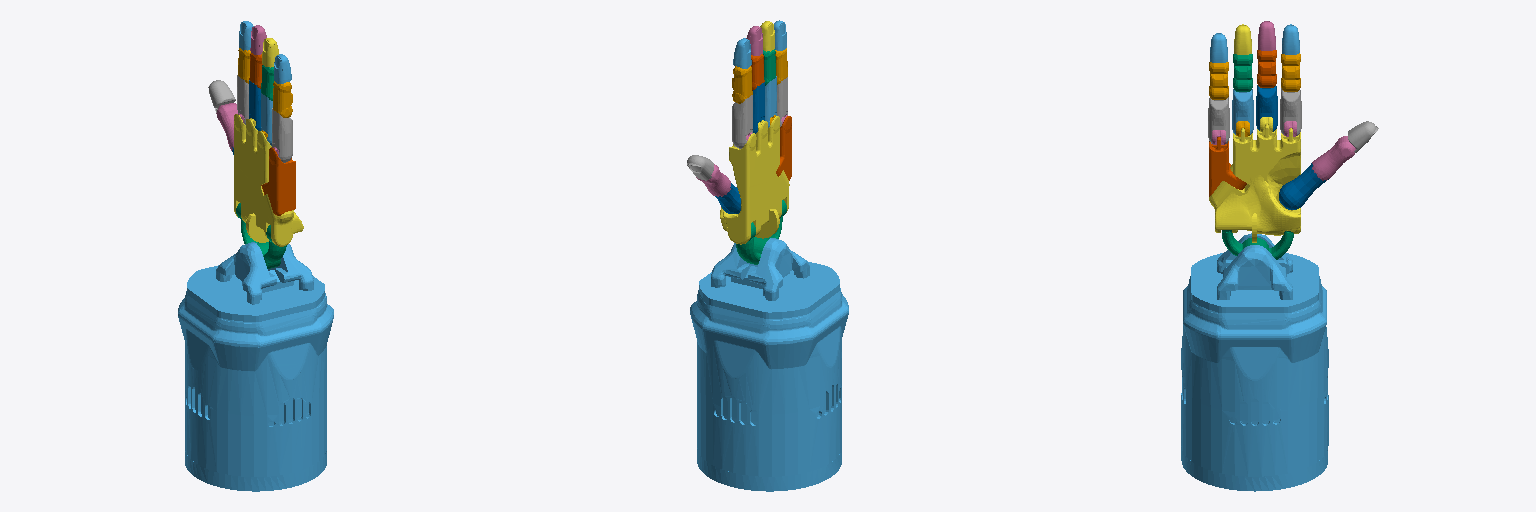
--- Facts derived from the render (not from the file) ---
Views: 3 orthographic renders of the robot side by side, from view 1: azimuth 30°, elevation 25°; view 2: azimuth 150°, elevation 25°; view 3: azimuth 270°, elevation 25°.
Model shadow_right with 33 links and 32 joints (24 revolute, 8 fixed), rooted at world, posed all joints at 0.
Visible links, largest first — view 1: forearm, palm, lfmetacarpal, lfproximal, wrist, lfmiddle, thmiddle; view 2: forearm, palm, ffproximal, wrist, lfmetacarpal, ffmiddle; view 3: forearm, palm, lfmetacarpal, thproximal, thmiddle, wrist, mfproximal, lfproximal, ffproximal, rfproximal, ffmiddle, rfmiddle (+3 smaller).
Link boxes in pixels (box(x1,y1,x2,y2)): forearm: box(178, 242, 333, 491); palm: box(234, 114, 303, 246); lfmetacarpal: box(261, 147, 295, 215); lfproximal: box(272, 108, 292, 162); wrist: box(236, 203, 286, 268); lfmiddle: box(273, 81, 292, 117); thmiddle: box(216, 103, 237, 150); forearm: box(690, 238, 848, 491); palm: box(720, 116, 789, 244); ffproximal: box(732, 95, 752, 148); wrist: box(736, 200, 786, 264); lfmetacarpal: box(776, 116, 791, 180); ffmiddle: box(732, 66, 752, 103); forearm: box(1181, 233, 1328, 491); palm: box(1209, 124, 1300, 242); lfmetacarpal: box(1209, 137, 1246, 196); thproximal: box(1279, 163, 1328, 209); thmiddle: box(1312, 136, 1355, 180); wrist: box(1222, 230, 1293, 259); mfproximal: box(1256, 85, 1277, 131); lfproximal: box(1208, 97, 1229, 143); ffproximal: box(1280, 88, 1301, 135); rfproximal: box(1232, 89, 1253, 134); ffmiddle: box(1281, 53, 1300, 91); rfmiddle: box(1233, 54, 1252, 91).
Bounding box of the posed robot: 0.1351 × 0.1809 × 0.4479 m (x, y, z).
23 mesh visuals loaded from 11 distinct referenced files (11 binary STL).

The robot description file, URDF, robot "shadow_right":
<?xml version="1.0" encoding="utf-8"?>
<!--
 Software License Agreement (BSD License)
 Copyright © 2022 belongs to Shadow Robot Company Ltd.
 All rights reserved.
 Redistribution and use in source and binary forms, with or without modification,
 are permitted provided that the following conditions are met:
   1. Redistributions of source code must retain the above copyright notice,
      this list of conditions and the following disclaimer.
   2. Redistributions in binary form must reproduce the above copyright notice,
      this list of conditions and the following disclaimer in the documentation
      and/or other materials provided with the distribution.
   3. Neither the name of Shadow Robot Company Ltd nor the names of its contributors
      may be used to endorse or promote products derived from this software without
      specific prior written permission.
 This software is provided by Shadow Robot Company Ltd "as is" and any express
 or implied warranties, including, but not limited to, the implied warranties of
 merchantability and fitness for a particular purpose are disclaimed. In no event
 shall the copyright holder be liable for any direct, indirect, incidental, special,
 exemplary, or consequential damages (including, but not limited to, procurement of
 substitute goods or services; loss of use, data, or profits; or business interruption)
 however caused and on any theory of liability, whether in contract, strict liability,
 or tort (including negligence or otherwise) arising in any way out of the use of this
 software, even if advised of the possibility of such damage.
-->
<robot name="shadow_right">
  <link name="world"/>
  <joint name="world_joint" type="fixed">
    <parent link="world"/>
    <child link="forearm"/>
    <origin rpy="0.0 0.0 1.57079" xyz="0.0 0.0 0.0"/>
  </joint>
  <link name="forearm">
    <inertial>
      <origin rpy="0 0 0" xyz="0 0 0.09"/>
      <mass value="3.0"/>
      <inertia ixx="0.0138" ixy="0.0" ixz="0.0" iyy="0.0138" iyz="0.0" izz="0.00744"/>
    </inertial>
    <visual>
      <origin rpy="0 0 0" xyz="0 0 0.0"/>
      <geometry name="forearm_visual">
        <mesh filename="meshes/visual/forearm_E3M5.stl" scale="0.001 0.001 0.001"/>
      </geometry>
    </visual>
    <collision>
      <origin rpy="0 0 0" xyz="0 0 0.0"/>
      <geometry name="forearm_collision">
        <mesh filename="meshes/collision/forearm_E3M5.stl" scale="0.001 0.001 0.001"/>
      </geometry>
    </collision>
    <!-- wrist mount -->
    <collision>
      <origin rpy="0 0.785395 0" xyz="0 -0.01 0.165"/>
      <geometry>
        <box size="0.07 0.07 0.07"/>
      </geometry>
    </collision>
  </link>
  <link name="wrist">
    <inertial>
      <origin rpy="0 0 0" xyz="0 0 0.029"/>
      <mass value="0.1"/>
      <inertia ixx="0.000035" ixy="0.0" ixz="0.0" iyy="0.000064" iyz="0.0" izz="0.0000438"/>
    </inertial>
    <visual>
      <origin rpy="0 0 0" xyz="0 0 0"/>
      <geometry name="wrist_visual">
        <mesh filename="meshes/visual/wrist_E3M5.stl" scale="0.001 0.001 0.001"/>
      </geometry>
    </visual>
    <collision>
      <origin rpy="1.5708 1.5708 0" xyz="0 0 0"/>
      <geometry name="wrist_collision_geom">
        <cylinder length="0.030" radius="0.0135"/>
      </geometry>
    </collision>
    <collision>
      <origin rpy="0 1.5708 0" xyz="-0.026 0 0.034"/>
      <geometry>
        <cylinder length="0.010" radius="0.011"/>
      </geometry>
    </collision>
    <collision>
      <origin rpy="0 1.5708 0" xyz="0.031 0 0.034"/>
      <geometry>
        <cylinder length="0.010" radius="0.011"/>
      </geometry>
    </collision>
    <collision>
      <origin rpy="0 0.7854 0" xyz="-0.021 0 0.011"/>
      <geometry>
        <box size="0.027 0.018 0.010"/>
      </geometry>
    </collision>
    <collision>
      <origin rpy="0 -0.7854 0" xyz="0.026 0 0.010"/>
      <geometry>
        <box size="0.027 0.018 0.010"/>
      </geometry>
    </collision>
  </link>
  <joint name="WRJ2" type="revolute">
    <parent link="forearm"/>
    <child link="wrist"/>
    <origin rpy="0 0 0" xyz="0 -0.010 0.21301"/>
    <axis xyz="0 1 0"/>
    <limit effort="10" lower="-0.523598775598" upper="0.174532925199" velocity="2.0"/>
    <dynamics damping="0.1"/>
  </joint>
  <link name="palm">
    <inertial>
      <origin rpy="0 0 0" xyz="0 0 0.035"/>
      <mass value="0.3"/>
      <inertia ixx="0.0003581" ixy="0.0" ixz="0.0" iyy="0.0005287" iyz="0.0" izz="0.000191"/>
    </inertial>
    <visual>
      <origin rpy="0 0 0" xyz="0 0 0"/>
      <geometry name="palm_visual">
        <mesh filename="meshes/visual/palm_E3M5.stl" scale="0.001 0.001 0.001"/>
      </geometry>
    </visual>
    <collision>
      <origin rpy="0 0 0" xyz="0.011 0.0085 0.042"/>
      <geometry name="palm_collision_geom">
        <box size="0.062 0.007 0.090"/>
      </geometry>
    </collision>
    <collision>
      <origin rpy="0 0 0" xyz="-0.002 -0.0035 0.042"/>
      <geometry>
        <box size="0.036 0.017 0.090"/>
      </geometry>
    </collision>
    <!-- palm complement below first finger -->
    <collision>
      <origin rpy="0 0 0" xyz="0.029 -0.0035 0.082"/>
      <geometry>
        <box size="0.026 0.017 0.010"/>
      </geometry>
    </collision>
    <collision>
      <origin rpy="0.2 0 0.25" xyz="0.0265 -0.001 0.070"/>
      <geometry>
        <box size="0.026 0.014 0.018"/>
      </geometry>
    </collision>
    <!-- thumb pulp side -->
    <collision>
      <origin rpy="0 0 0" xyz="0.0315 -0.0085 0.005"/>
      <geometry>
        <box size="0.021 0.027 0.016"/>
      </geometry>
    </collision>
    <!-- thumb pulp central -->
    <collision>
      <origin rpy="0 0 -0.48" xyz="0.0125 -0.015 0.013"/>
      <geometry>
        <box size="0.022 0.005 0.032"/>
      </geometry>
    </collision>
    <!-- above middle finger-->
    <collision>
      <origin rpy="0 0 0" xyz="0.011 0 0.089"/>
      <geometry>
        <box size="0.018 0.024 0.004"/>
      </geometry>
    </collision>
    <!-- metacarpal side-->
    <collision>
      <origin rpy="0 0 0" xyz="-0.03 0 0.013"/>
      <geometry>
        <box size="0.020 0.024 0.032"/>
      </geometry>
    </collision>
  </link>
  <joint name="ee_fixed_joint" type="fixed">
    <parent link="palm"/>
    <child link="ee_link"/>
    <origin rpy="0.0 0.0 -1.57079" xyz="0.0 0.0 0.0"/>
  </joint>
  <link name="ee_link"/>
  <joint name="WRJ1" type="revolute">
    <parent link="wrist"/>
    <child link="palm"/>
    <origin rpy="0 0 0" xyz="0 0 0.034"/>
    <axis xyz="1 0 0"/>
    <limit effort="30" lower="-0.698131700798" upper="0.488692190558" velocity="2.0"/>
    <dynamics damping="0.1"/>
  </joint>
  <link name="imu"/>
  <joint name="palm_to_imu" type="fixed">
    <parent link="palm"/>
    <child link="imu"/>
    <origin rpy="-1.5707963 3.141592 0.0" xyz="0.01785 0.00765 0.049125"/>
  </joint>
  <link name="ffknuckle">
    <inertial>
      <origin rpy="0 0 0" xyz="0 0 0"/>
      <mass value="0.008"/>
      <inertia ixx="0.00000026" ixy="0.0" ixz="0.0" iyy="0.00000026" iyz="0.0" izz="0.00000032"/>
    </inertial>
    <visual>
      <origin rpy="0 0 0" xyz="0 0 0.0005"/>
      <geometry name="ffknuckle_visual">
        <mesh filename="meshes/visual/f_knuckle_E3M5.stl" scale="0.001 0.001 0.001"/>
      </geometry>
    </visual>
    <collision>
      <geometry name="ffknuckle_visual">
        <mesh filename="meshes/collision/f_knuckle_E3M5.stl"/>
      </geometry>
    </collision>
  </link>
  <joint name="FFJ4" type="revolute">
    <parent link="palm"/>
    <child link="ffknuckle"/>
    <origin rpy="0 0 0" xyz="0.033 0 0.095"/>
    <axis xyz="0 -1 0"/>
    <limit effort="2" lower="-0.349065850399" upper="0.349065850399" velocity="2.0"/>
    <dynamics damping="0.1"/>
  </joint>
  <link name="ffproximal">
    <inertial>
      <mass value="0.030"/>
      <origin xyz="0 0 0.0225"/>
      <inertia ixx="0.0000098" ixy="0.0" ixz="0.0" iyy="0.00001" iyz="0.0" izz="0.0000018"/>
    </inertial>
    <visual>
      <origin rpy="0 0 0" xyz="0 0 0"/>
      <geometry name="ffproximal_visual">
        <mesh filename="meshes/visual/f_proximal_E3M5.stl" scale="0.001 0.001 0.001"/>
      </geometry>
    </visual>
    <collision>
      <origin rpy="0 0 0" xyz="0 0 0.025"/>
      <geometry name="ffproximal_collision_geom">
        <cylinder length="0.040" radius="0.007"/>
      </geometry>
    </collision>
  </link>
  <joint name="FFJ3" type="revolute">
    <parent link="ffknuckle"/>
    <child link="ffproximal"/>
    <origin rpy="0 0 0" xyz="0 0 0"/>
    <axis xyz="1 0 0"/>
    <limit effort="2" lower="-0.261799387799" upper="1.57079632679" velocity="2.0"/>
    <dynamics damping="0.1"/>
  </joint>
  <link name="ffmiddle">
    <inertial>
      <origin rpy="0 0 0" xyz="0 0 0.0125"/>
      <mass value="0.017"/>
      <inertia ixx="0.0000026" ixy="0.0" ixz="0.0" iyy="0.0000027" iyz="0.0" izz="0.00000087"/>
    </inertial>
    <visual>
      <origin rpy="0 0 0" xyz="0 0 0"/>
      <geometry name="ffmiddle_visual">
        <mesh filename="meshes/visual/f_middle_E3M5.stl" scale="0.001 0.001 0.001"/>
      </geometry>
    </visual>
    <collision>
      <origin rpy="0 0 0" xyz="0 0 0.0125"/>
      <geometry name="ffmiddle_collision_geom">
        <cylinder length="0.025" radius="0.007"/>
      </geometry>
    </collision>
    <collision>
      <origin rpy="0 0 0" xyz="0 0 0.0"/>
      <geometry>
        <sphere radius="0.007"/>
      </geometry>
    </collision>
    <collision>
      <origin rpy="0 0 0" xyz="0 0 0.025"/>
      <geometry>
        <sphere radius="0.007"/>
      </geometry>
    </collision>
  </link>
  <joint name="FFJ2" type="revolute">
    <parent link="ffproximal"/>
    <child link="ffmiddle"/>
    <origin rpy="0 0 0" xyz="0 0 0.045"/>
    <axis xyz="1 0 0"/>
    <limit effort="2" lower="0" upper="1.57079632679" velocity="2.0"/>
    <dynamics damping="0.1"/>
  </joint>
  <link name="ffdistal">
    <!--    inertial and mass is enlarged by 10 times to fix the position drive issue in Physx simulation, used in IsaacGym and SAPIEN-->
    <inertial>
      <mass value="0.12"/>
      <origin xyz="0 0 0.012"/>
      <inertia ixx="0.0000094" ixy="0.0" ixz="0.0" iyy="0.000011" iyz="0.0" izz="0.0000053"/>
    </inertial>
    <visual>
      <origin rpy="0 0 0" xyz="0 0 0"/>
      <geometry name="ffdistal_visual">
        <mesh filename="meshes/visual/f_distal_pst.stl" scale="0.001 0.001 0.001"/>
      </geometry>
    </visual>
    <collision>
      <origin rpy="0 0 0" xyz="0 0 0"/>
      <geometry name="ffdistal_collision_geom">
        <mesh filename="meshes/visual/f_distal_pst.stl" scale="0.001 0.001 0.001"/>
      </geometry>
    </collision>
  </link>
  <joint name="FFJ1" type="revolute">
    <parent link="ffmiddle"/>
    <child link="ffdistal"/>
    <origin rpy="0 0 0" xyz="0 0 0.025"/>
    <axis xyz="1 0 0"/>
    <!-- standard distal joint -->
    <limit effort="2" lower="0" upper="1.57079632679" velocity="2.0"/>
    <dynamics damping="0.1"/>
  </joint>
  <link name="fftip">
    <inertial>
      <mass value="0.001"/>
      <inertia ixx="0.0" ixy="0.0" ixz="0.0" iyy="0.0" iyz="0.0" izz="0.0"/>
    </inertial>
  </link>
  <joint name="FFtip" type="fixed">
    <parent link="ffdistal"/>
    <child link="fftip"/>
    <origin rpy="0 0 0" xyz="0 0 0.026"/>
  </joint>
  <link name="mfknuckle">
    <inertial>
      <origin rpy="0 0 0" xyz="0 0 0"/>
      <mass value="0.008"/>
      <inertia ixx="0.00000026" ixy="0.0" ixz="0.0" iyy="0.00000026" iyz="0.0" izz="0.00000032"/>
    </inertial>
    <visual>
      <origin rpy="0 0 0" xyz="0 0 0.0005"/>
      <geometry name="mfknuckle_visual">
        <mesh filename="meshes/visual/f_knuckle_E3M5.stl" scale="0.001 0.001 0.001"/>
      </geometry>
    </visual>
    <collision>
      <geometry name="ffknuckle_visual">
        <mesh filename="meshes/collision/f_knuckle_E3M5.stl"/>
      </geometry>
    </collision>
  </link>
  <joint name="MFJ4" type="revolute">
    <parent link="palm"/>
    <child link="mfknuckle"/>
    <!--<origin xyz="0.033 0 0.095" rpy="0 0 0" />-->
    <origin rpy="0 0 0" xyz="0.011 0 0.099"/>
    <axis xyz="0 -1 0"/>
    <limit effort="2" lower="-0.349065850399" upper="0.349065850399" velocity="2.0"/>
    <dynamics damping="0.1"/>
  </joint>
  <link name="mfproximal">
    <inertial>
      <mass value="0.030"/>
      <origin xyz="0 0 0.0225"/>
      <inertia ixx="0.0000098" ixy="0.0" ixz="0.0" iyy="0.00001" iyz="0.0" izz="0.0000018"/>
    </inertial>
    <visual>
      <origin rpy="0 0 0" xyz="0 0 0"/>
      <geometry name="mfproximal_visual">
        <mesh filename="meshes/visual/f_proximal_E3M5.stl" scale="0.001 0.001 0.001"/>
      </geometry>
    </visual>
    <collision>
      <origin rpy="0 0 0" xyz="0 0 0.025"/>
      <geometry name="mfproximal_collision_geom">
        <cylinder length="0.040" radius="0.007"/>
      </geometry>
    </collision>
  </link>
  <joint name="MFJ3" type="revolute">
    <parent link="mfknuckle"/>
    <child link="mfproximal"/>
    <origin rpy="0 0 0" xyz="0 0 0"/>
    <axis xyz="1 0 0"/>
    <limit effort="2" lower="-0.261799387799" upper="1.57079632679" velocity="2.0"/>
    <dynamics damping="0.1"/>
  </joint>
  <link name="mfmiddle">
    <inertial>
      <origin rpy="0 0 0" xyz="0 0 0.0125"/>
      <mass value="0.017"/>
      <inertia ixx="0.0000026" ixy="0.0" ixz="0.0" iyy="0.0000027" iyz="0.0" izz="0.00000087"/>
    </inertial>
    <visual>
      <origin rpy="0 0 0" xyz="0 0 0"/>
      <geometry name="mfmiddle_visual">
        <mesh filename="meshes/visual/f_middle_E3M5.stl" scale="0.001 0.001 0.001"/>
      </geometry>
    </visual>
    <collision>
      <origin rpy="0 0 0" xyz="0 0 0.0125"/>
      <geometry name="mfmiddle_collision_geom">
        <cylinder length="0.025" radius="0.007"/>
      </geometry>
    </collision>
    <collision>
      <origin rpy="0 0 0" xyz="0 0 0.0"/>
      <geometry>
        <sphere radius="0.007"/>
      </geometry>
    </collision>
    <collision>
      <origin rpy="0 0 0" xyz="0 0 0.025"/>
      <geometry>
        <sphere radius="0.007"/>
      </geometry>
    </collision>
  </link>
  <joint name="MFJ2" type="revolute">
    <parent link="mfproximal"/>
    <child link="mfmiddle"/>
    <origin rpy="0 0 0" xyz="0 0 0.045"/>
    <axis xyz="1 0 0"/>
    <limit effort="2" lower="0" upper="1.57079632679" velocity="2.0"/>
    <dynamics damping="0.1"/>
  </joint>
  <link name="mfdistal">
    <!--    inertial and mass is enlarged by 10 times to fix the position drive issue in Physx simulation, used in IsaacGym and SAPIEN-->
    <inertial>
      <mass value="0.12"/>
      <origin xyz="0 0 0.012"/>
      <inertia ixx="0.0000094" ixy="0.0" ixz="0.0" iyy="0.000011" iyz="0.0" izz="0.0000053"/>
    </inertial>
    <visual>
      <origin rpy="0 0 0" xyz="0 0 0"/>
      <geometry name="mfdistal_visual">
        <mesh filename="meshes/visual/f_distal_pst.stl" scale="0.001 0.001 0.001"/>
      </geometry>
    </visual>
    <collision>
      <origin rpy="0 0 0" xyz="0 0 0"/>
      <geometry name="mfdistal_collision_geom">
        <mesh filename="meshes/collision/f_distal_pst.stl" scale="0.001 0.001 0.001"/>
      </geometry>
    </collision>
  </link>
  <joint name="MFJ1" type="revolute">
    <parent link="mfmiddle"/>
    <child link="mfdistal"/>
    <origin rpy="0 0 0" xyz="0 0 0.025"/>
    <axis xyz="1 0 0"/>
    <!-- standard distal joint -->
    <limit effort="2" lower="0" upper="1.57079632679" velocity="2.0"/>
    <dynamics damping="0.1"/>
  </joint>
  <link name="mftip">
    <inertial>
      <mass value="0.001"/>
      <inertia ixx="0.0" ixy="0.0" ixz="0.0" iyy="0.0" iyz="0.0" izz="0.0"/>
    </inertial>
  </link>
  <joint name="MFtip" type="fixed">
    <parent link="mfdistal"/>
    <child link="mftip"/>
    <origin rpy="0 0 0" xyz="0 0 0.026"/>
  </joint>
  <link name="rfknuckle">
    <inertial>
      <origin rpy="0 0 0" xyz="0 0 0"/>
      <mass value="0.008"/>
      <inertia ixx="0.00000026" ixy="0.0" ixz="0.0" iyy="0.00000026" iyz="0.0" izz="0.00000032"/>
    </inertial>
    <visual>
      <origin rpy="0 0 0" xyz="0 0 0.0005"/>
      <geometry name="rfknuckle_visual">
        <mesh filename="meshes/visual/f_knuckle_E3M5.stl" scale="0.001 0.001 0.001"/>
      </geometry>
    </visual>
    <collision>
      <geometry name="ffknuckle_visual">
        <mesh filename="meshes/collision/f_knuckle_E3M5.stl"/>
      </geometry>
    </collision>
  </link>
  <joint name="RFJ4" type="revolute">
    <parent link="palm"/>
    <child link="rfknuckle"/>
    <!--<origin xyz="0.033 0 0.095" rpy="0 0 0" />-->
    <origin rpy="0 0 0" xyz="-0.011 0 0.095"/>
    <axis xyz="0 1 0"/>
    <limit effort="2" lower="-0.349065850399" upper="0.349065850399" velocity="2.0"/>
    <dynamics damping="0.1"/>
  </joint>
  <link name="rfproximal">
    <inertial>
      <mass value="0.030"/>
      <origin xyz="0 0 0.0225"/>
      <inertia ixx="0.0000098" ixy="0.0" ixz="0.0" iyy="0.00001" iyz="0.0" izz="0.0000018"/>
    </inertial>
    <visual>
      <origin rpy="0 0 0" xyz="0 0 0"/>
      <geometry name="rfproximal_visual">
        <mesh filename="meshes/visual/f_proximal_E3M5.stl" scale="0.001 0.001 0.001"/>
      </geometry>
    </visual>
    <collision>
      <origin rpy="0 0 0" xyz="0 0 0.025"/>
      <geometry name="rfproximal_collision_geom">
        <cylinder length="0.040" radius="0.007"/>
      </geometry>
    </collision>
  </link>
  <joint name="RFJ3" type="revolute">
    <parent link="rfknuckle"/>
    <child link="rfproximal"/>
    <origin rpy="0 0 0" xyz="0 0 0"/>
    <axis xyz="1 0 0"/>
    <limit effort="2" lower="-0.261799387799" upper="1.57079632679" velocity="2.0"/>
    <dynamics damping="0.1"/>
  </joint>
  <link name="rfmiddle">
    <inertial>
      <origin rpy="0 0 0" xyz="0 0 0.0125"/>
      <mass value="0.017"/>
      <inertia ixx="0.0000026" ixy="0.0" ixz="0.0" iyy="0.0000027" iyz="0.0" izz="0.00000087"/>
    </inertial>
    <visual>
      <origin rpy="0 0 0" xyz="0 0 0"/>
      <geometry name="rfmiddle_visual">
        <mesh filename="meshes/visual/f_middle_E3M5.stl" scale="0.001 0.001 0.001"/>
      </geometry>
    </visual>
    <collision>
      <origin rpy="0 0 0" xyz="0 0 0.0125"/>
      <geometry name="rfmiddle_collision_geom">
        <cylinder length="0.025" radius="0.007"/>
      </geometry>
    </collision>
    <collision>
      <origin rpy="0 0 0" xyz="0 0 0.0"/>
      <geometry>
        <sphere radius="0.007"/>
      </geometry>
    </collision>
    <collision>
      <origin rpy="0 0 0" xyz="0 0 0.025"/>
      <geometry>
        <sphere radius="0.007"/>
      </geometry>
    </collision>
  </link>
  <joint name="RFJ2" type="revolute">
    <parent link="rfproximal"/>
    <child link="rfmiddle"/>
    <origin rpy="0 0 0" xyz="0 0 0.045"/>
    <axis xyz="1 0 0"/>
    <limit effort="2" lower="0" upper="1.57079632679" velocity="2.0"/>
    <dynamics damping="0.1"/>
  </joint>
  <link name="rfdistal">
    <!--    inertial and mass is enlarged by 10 times to fix the position drive issue in Physx simulation, used in IsaacGym and SAPIEN-->
    <inertial>
      <mass value="0.12"/>
      <origin xyz="0 0 0.012"/>
      <inertia ixx="0.0000094" ixy="0.0" ixz="0.0" iyy="0.000011" iyz="0.0" izz="0.0000053"/>
    </inertial>
    <visual>
      <origin rpy="0 0 0" xyz="0 0 0"/>
      <geometry name="rfdistal_visual">
        <mesh filename="meshes/visual/f_distal_pst.stl" scale="0.001 0.001 0.001"/>
      </geometry>
    </visual>
    <collision>
      <origin rpy="0 0 0" xyz="0 0 0"/>
      <geometry name="rfdistal_collision_geom">
        <mesh filename="meshes/collision/f_distal_pst.stl" scale="0.001 0.001 0.001"/>
      </geometry>
    </collision>
  </link>
  <joint name="RFJ1" type="revolute">
    <parent link="rfmiddle"/>
    <child link="rfdistal"/>
    <origin rpy="0 0 0" xyz="0 0 0.025"/>
    <axis xyz="1 0 0"/>
    <!-- standard distal joint -->
    <limit effort="2" lower="0" upper="1.57079632679" velocity="2.0"/>
    <dynamics damping="0.1"/>
  </joint>
  <link name="rftip">
    <inertial>
      <mass value="0.001"/>
      <inertia ixx="0.0" ixy="0.0" ixz="0.0" iyy="0.0" iyz="0.0" izz="0.0"/>
    </inertial>
  </link>
  <joint name="RFtip" type="fixed">
    <parent link="rfdistal"/>
    <child link="rftip"/>
    <origin rpy="0 0 0" xyz="0 0 0.026"/>
  </joint>
  <link name="lfmetacarpal">
    <inertial>
      <origin rpy="0 0.9599 0" xyz="0.0317486764706 0 0.0223529411765"/>
      <mass value="0.030"/>
      <inertia ixx="0.0000145" ixy="0.0" ixz="0.0" iyy="0.00001638" iyz="0.0" izz="0.000004272"/>
    </inertial>
    <visual>
      <origin rpy="0 0.9599 0" xyz="0 0 0"/>
      <geometry name="lfmetacarpal_visual">
        <mesh filename="meshes/visual/lf_metacarpal_E3M5.stl" scale="0.001 0.001 0.001"/>
      </geometry>
    </visual>
    <collision>
      <origin rpy="0 0.9599 0" xyz="0.026986375 0 0.019"/>
      <geometry name="lfmetacarpal_collision_geom">
        <box size="0.018 0.024 0.040"/>
      </geometry>
    </collision>
  </link>
  <joint name="LFJ5" type="revolute">
    <parent link="palm"/>
    <child link="lfmetacarpal"/>
    <origin rpy="0 -0.9599 0" xyz="-0.033 0 0.02071"/>
    <axis xyz="1 0 0"/>
    <limit effort="2" lower="0" upper="0.785398163397" velocity="2.0"/>
    <dynamics damping="0.1"/>
  </joint>
  <link name="lfknuckle">
    <inertial>
      <origin rpy="0 0 0" xyz="0 0 0"/>
      <mass value="0.008"/>
      <inertia ixx="0.00000026" ixy="0.0" ixz="0.0" iyy="0.00000026" iyz="0.0" izz="0.00000032"/>
    </inertial>
    <visual>
      <origin rpy="0 0 0" xyz="0 0 0.0005"/>
      <geometry name="lfknuckle_visual">
        <mesh filename="meshes/visual/f_knuckle_E3M5.stl" scale="0.001 0.001 0.001"/>
      </geometry>
    </visual>
    <collision>
      <geometry name="ffknuckle_visual">
        <mesh filename="meshes/collision/f_knuckle_E3M5.stl"/>
      </geometry>
    </collision>
  </link>
  <joint name="LFJ4" type="revolute">
    <parent link="lfmetacarpal"/>
    <child link="lfknuckle"/>
    <!--<origin xyz="0.033 0 0.095" rpy="0 0 0" />-->
    <origin rpy="0 0.9599 0" xyz="0.05397275 0 0.03779463"/>
    <axis xyz="0 1 0"/>
    <limit effort="2" lower="-0.349065850399" upper="0.349065850399" velocity="2.0"/>
    <dynamics damping="0.1"/>
  </joint>
  <link name="lfproximal">
    <inertial>
      <mass value="0.030"/>
      <origin xyz="0 0 0.0225"/>
      <inertia ixx="0.0000098" ixy="0.0" ixz="0.0" iyy="0.00001" iyz="0.0" izz="0.0000018"/>
    </inertial>
    <visual>
      <origin rpy="0 0 0" xyz="0 0 0"/>
      <geometry name="lfproximal_visual">
        <mesh filename="meshes/visual/f_proximal_E3M5.stl" scale="0.001 0.001 0.001"/>
      </geometry>
    </visual>
    <collision>
      <origin rpy="0 0 0" xyz="0 0 0.025"/>
      <geometry name="lfproximal_collision_geom">
        <cylinder length="0.040" radius="0.007"/>
      </geometry>
    </collision>
  </link>
  <joint name="LFJ3" type="revolute">
    <parent link="lfknuckle"/>
    <child link="lfproximal"/>
    <origin rpy="0 0 0" xyz="0 0 0"/>
    <axis xyz="1 0 0"/>
    <limit effort="2" lower="-0.261799387799" upper="1.57079632679" velocity="2.0"/>
    <dynamics damping="0.1"/>
  </joint>
  <link name="lfmiddle">
    <inertial>
      <origin rpy="0 0 0" xyz="0 0 0.0125"/>
      <mass value="0.017"/>
      <inertia ixx="0.0000026" ixy="0.0" ixz="0.0" iyy="0.0000027" iyz="0.0" izz="0.00000087"/>
    </inertial>
    <visual>
      <origin rpy="0 0 0" xyz="0 0 0"/>
      <geometry name="lfmiddle_visual">
        <mesh filename="meshes/visual/f_middle_E3M5.stl" scale="0.001 0.001 0.001"/>
      </geometry>
    </visual>
    <collision>
      <origin rpy="0 0 0" xyz="0 0 0.0125"/>
      <geometry name="lfmiddle_collision_geom">
        <cylinder length="0.025" radius="0.007"/>
      </geometry>
    </collision>
    <collision>
      <origin rpy="0 0 0" xyz="0 0 0.0"/>
      <geometry>
        <sphere radius="0.007"/>
      </geometry>
    </collision>
    <collision>
      <origin rpy="0 0 0" xyz="0 0 0.025"/>
      <geometry>
        <sphere radius="0.007"/>
      </geometry>
    </collision>
  </link>
  <joint name="LFJ2" type="revolute">
    <parent link="lfproximal"/>
    <child link="lfmiddle"/>
    <origin rpy="0 0 0" xyz="0 0 0.045"/>
    <axis xyz="1 0 0"/>
    <limit effort="2" lower="0" upper="1.57079632679" velocity="2.0"/>
    <dynamics damping="0.1"/>
  </joint>
  <link name="lfdistal">
    <!--    inertial and mass is enlarged by 10 times to fix the position drive issue in Physx simulation, used in IsaacGym and SAPIEN-->
    <inertial>
      <mass value="0.12"/>
      <origin xyz="0 0 0.012"/>
      <inertia ixx="0.0000094" ixy="0.0" ixz="0.0" iyy="0.000011" iyz="0.0" izz="0.0000053"/>
    </inertial>
    <visual>
      <origin rpy="0 0 0" xyz="0 0 0"/>
      <geometry name="lfdistal_visual">
        <mesh filename="meshes/visual/f_distal_pst.stl" scale="0.001 0.001 0.001"/>
      </geometry>
    </visual>
    <collision>
      <origin rpy="0 0 0" xyz="0 0 0"/>
      <geometry name="lfdistal_collision_geom">
        <mesh filename="meshes/collision/f_distal_pst.stl" scale="0.001 0.001 0.001"/>
      </geometry>
    </collision>
  </link>
  <joint name="LFJ1" type="revolute">
    <parent link="lfmiddle"/>
    <child link="lfdistal"/>
    <origin rpy="0 0 0" xyz="0 0 0.025"/>
    <axis xyz="1 0 0"/>
    <!-- standard distal joint -->
    <limit effort="2" lower="0" upper="1.57079632679" velocity="2.0"/>
    <dynamics damping="0.1"/>
  </joint>
  <link name="lftip">
    <inertial>
      <mass value="0.001"/>
      <inertia ixx="0.0" ixy="0.0" ixz="0.0" iyy="0.0" iyz="0.0" izz="0.0"/>
    </inertial>
  </link>
  <joint name="LFtip" type="fixed">
    <parent link="lfdistal"/>
    <child link="lftip"/>
    <origin rpy="0 0 0" xyz="0 0 0.026"/>
  </joint>
  <link name="thbase">
    <inertial>
      <mass value="0.010"/>
      <origin rpy="0 0 0" xyz="0 0 0"/>
      <inertia ixx="0.00000016" ixy="0.0" ixz="0.0" iyy="0.00000016" iyz="0.0" izz="0.00000016"/>
    </inertial>
    <visual>
      <origin rpy="0 0 0" xyz="0 0 0"/>
      <geometry name="thbase_visual">
        <box size="0.001 0.001 0.001"/>
      </geometry>
    </visual>
    <collision>
      <origin rpy="0 0 0" xyz="0 0 0"/>
      <geometry name="thbase_collision_geom">
        <sphere radius="0.011"/>
      </geometry>
    </collision>
  </link>
  <joint name="THJ5" type="revolute">
    <parent link="palm"/>
    <child link="thbase"/>
    <origin rpy="-0.785398163397 0 -1.57079632679" xyz="0.034 -0.00858 0.029"/>
    <axis xyz="0 0 -1"/>
    <limit effort="5.0" lower="-1.0471975512" upper="1.0471975512" velocity="4.0"/>
    <dynamics damping="0.2"/>
  </joint>
  <link name="thproximal">
    <inertial>
      <mass value="0.040"/>
      <origin rpy="0 0 0" xyz="0 0 0.019"/>
      <inertia ixx="0.0000136" ixy="0.0" ixz="0.0" iyy="0.0000136" iyz="0.0" izz="0.00000313"/>
    </inertial>
    <visual>
      <origin rpy="0 0 1.57079632679" xyz="0 0 0"/>
      <geometry name="thproximal_visual">
        <mesh filename="meshes/visual/th_proximal_E3M5.stl" scale="0.001 0.001 0.001"/>
      </geometry>
    </visual>
    <collision>
      <geometry name="thproximal_collision">
        <mesh filename="meshes/collision/th_proximal_E3M5.stl" scale="0.001 0.001 0.001"/>
      </geometry>
    </collision>
  </link>
  <joint name="THJ4" type="revolute">
    <parent link="thbase"/>
    <child link="thproximal"/>
    <origin rpy="0 0 0" xyz="0 0 0"/>
    <axis xyz="0 1 0"/>
    <limit effort="3" lower="0.0" upper="1.2217304764" velocity="4.0"/>
    <dynamics damping="0.2"/>
  </joint>
  <link name="thhub">
    <inertial>
      <mass value="0.005"/>
      <origin rpy="0 0 0" xyz="0 0 0"/>
      <inertia ixx="0.000001" ixy="0.0" ixz="0.0" iyy="0.000001" iyz="0.0" izz="0.0000003"/>
    </inertial>
    <collision>
      <origin rpy="0 0 0" xyz="0 0 0"/>
      <geometry name="thhub_collision_geom">
        <sphere radius="0.010"/>
      </geometry>
    </collision>
  </link>
  <joint name="THJ3" type="revolute">
    <parent link="thproximal"/>
    <child link="thhub"/>
    <origin rpy="0 0 0" xyz="0 0 0.038"/>
    <axis xyz="0 1 0"/>
    <limit effort="2.0" lower="-1" upper="0.209439510239" velocity="4.0"/>
    <dynamics damping="0.2"/>
  </joint>
  <link name="thmiddle">
    <inertial>
      <mass value="0.020"/>
      <origin rpy="0 0 0" xyz="0 0 0.016"/>
      <inertia ixx="0.0000051" ixy="0.0" ixz="0.0" iyy="0.0000051" iyz="0.0" izz="0.00000121"/>
    </inertial>
    <visual>
      <origin rpy="0 0 1.57079632679" xyz="0 0 0"/>
      <geometry name="thmiddle_visual">
        <mesh filename="meshes/visual/th_middle_E3M5.stl" scale="0.001 0.001 0.001"/>
      </geometry>
    </visual>
    <collision>
      <geometry name="thmiddle_collision">
        <mesh filename="meshes/collision/th_middle_E3M5.stl" scale="0.001 0.001 0.001"/>
      </geometry>
    </collision>
  </link>
  <joint name="THJ2" type="revolute">
    <parent link="thhub"/>
    <child link="thmiddle"/>
    <origin rpy="0 0 0" xyz="0 0 0"/>
    <axis xyz="1 0 0"/>
    <limit effort="2.0" lower="-0.698131700798" upper="0.698131700798" velocity="2.0"/>
    <dynamics damping="0.1"/>
  </joint>
  <!-- common -->
  <link name="thdistal">
    <!--    inertial and mass is enlarged by 10 times to fix the position drive issue in Physx simulation, used in IsaacGym and SAPIEN-->
    <inertial>
      <mass value="0.16"/>
      <origin rpy="0 0 0" xyz="0 0 0.01375"/>
      <inertia ixx="0.000021" ixy="0.0" ixz="0.0" iyy="0.000022" iyz="0.0" izz="0.00001"/>
    </inertial>
    <visual>
      <origin rpy="0 0 0" xyz="0 0 0"/>
      <geometry name="thdistal_visual">
        <mesh filename="meshes/visual/th_distal_pst.stl" scale="0.001 0.001 0.001"/>
      </geometry>
    </visual>
    <collision>
      <origin rpy="0 0 0" xyz="0 0 0"/>
      <geometry name="thmiddle_collision_geom">
        <mesh filename="meshes/visual/th_distal_pst.stl" scale="0.001 0.001 0.001"/>
      </geometry>
    </collision>
  </link>
  <joint name="THJ1" type="revolute">
    <parent link="thmiddle"/>
    <child link="thdistal"/>
    <origin rpy="0 0 0" xyz="0 0 0.032"/>
    <axis xyz="1 0 0"/>
    <limit effort="1.0" lower="-0.261799387799" upper="1.57079632679" velocity="4.0"/>
    <dynamics damping="0.2"/>
  </joint>
  <link name="thtip">
    <inertial>
      <mass value="0.001"/>
      <inertia ixx="0.0" ixy="0.0" ixz="0.0" iyy="0.0" iyz="0.0" izz="0.0"/>
    </inertial>
  </link>
  <joint name="THtip" type="fixed">
    <parent link="thdistal"/>
    <child link="thtip"/>
    <origin rpy="0 0 0" xyz="0 0 0.0275"/>
  </joint>
</robot>
